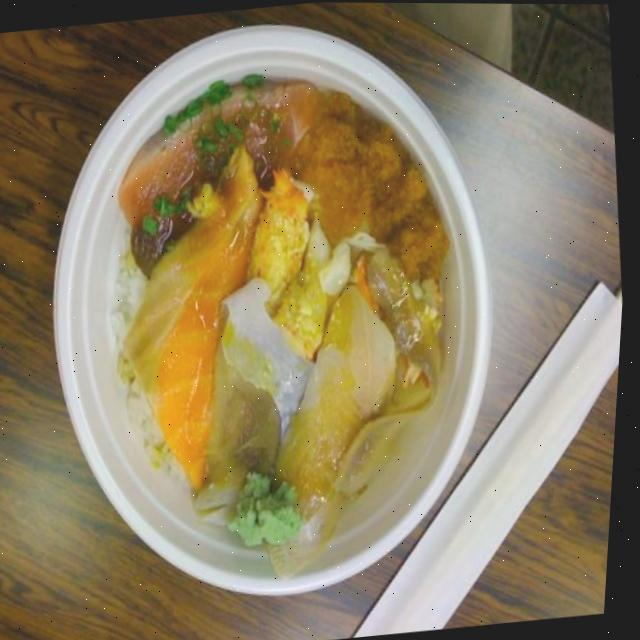刺身生食: (10, 0, 543, 628)
